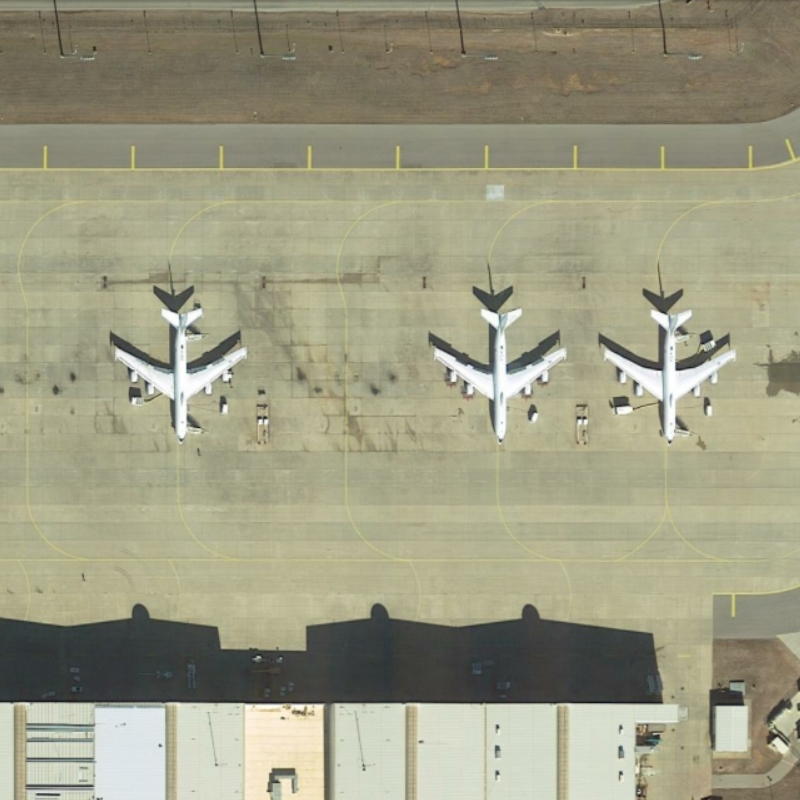A11: (104, 300, 262, 447), (598, 298, 744, 450), (427, 300, 569, 449)
